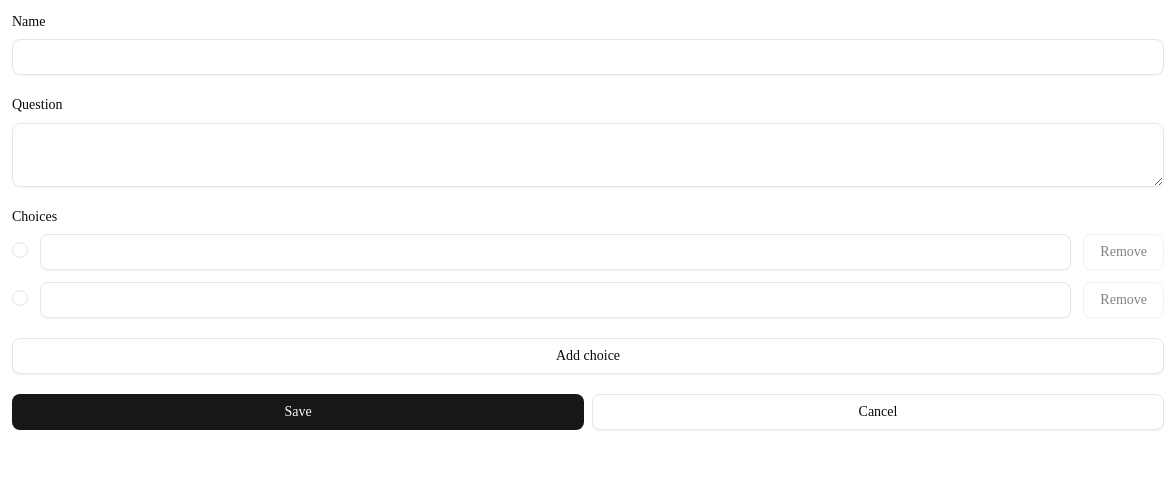
Test: McqForm › save is blocked when the question is blank
Type "Math basics" into the field labelled "Name" at (588, 57), box x1=12 y1=39 x2=1164 y2=75
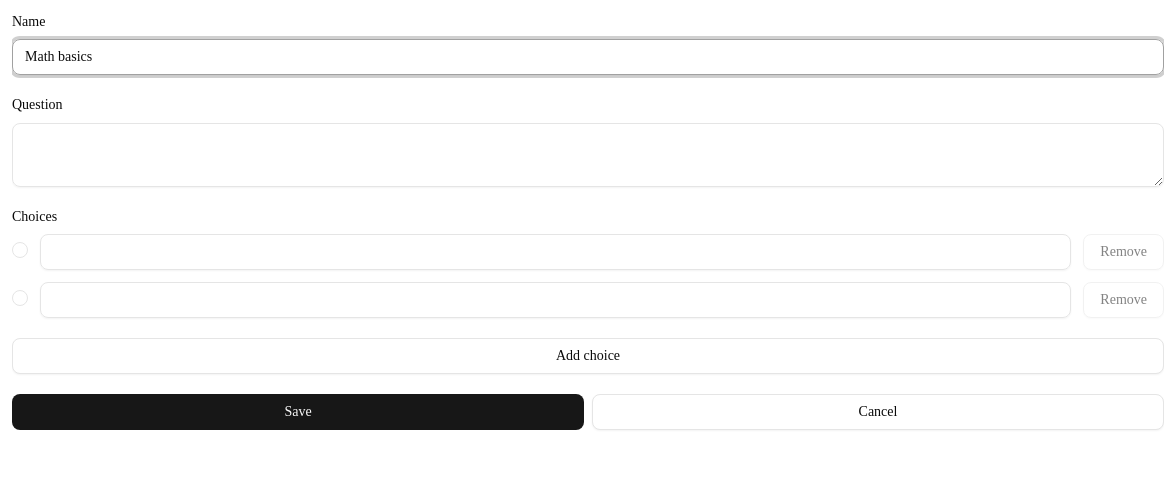
Type "3" into the field named "choice 1" at (556, 252), box x1=40 y1=234 x2=1071 y2=270
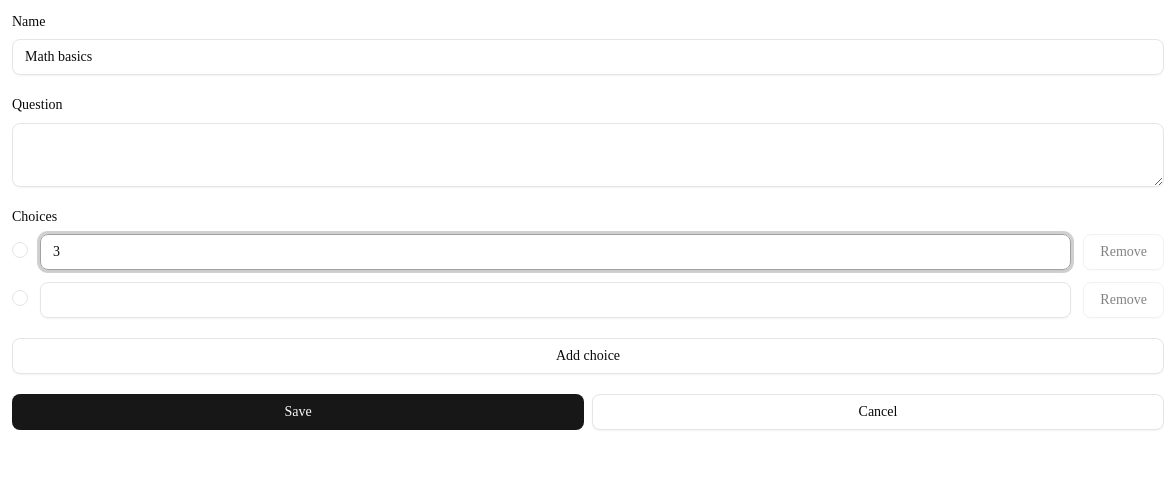
Type "4" into the field named "choice 2" at (556, 300), box x1=40 y1=282 x2=1071 y2=318
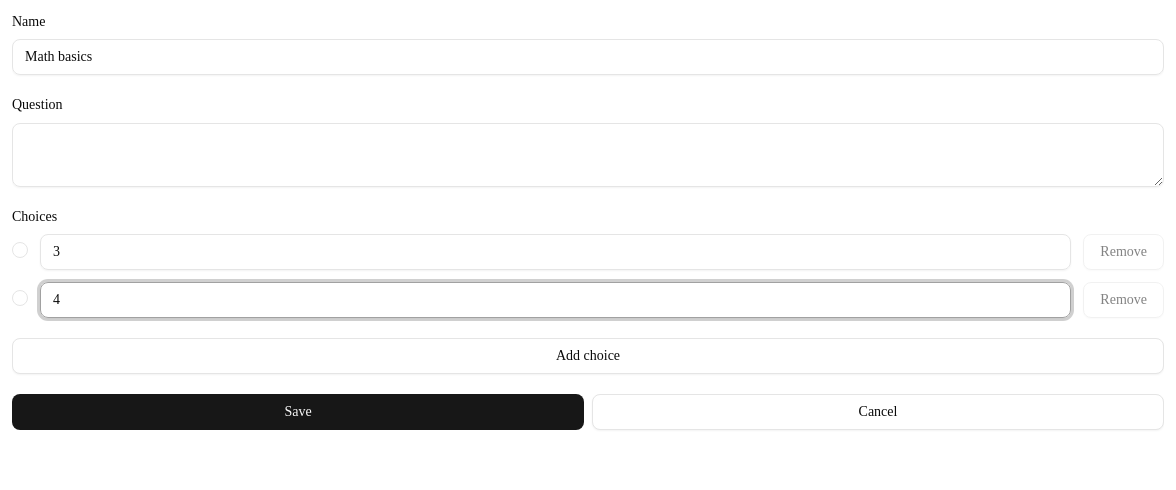
Click the radio button named "mark choice 2 as correct" at (20, 298), box x1=12 y1=290 x2=28 y2=306
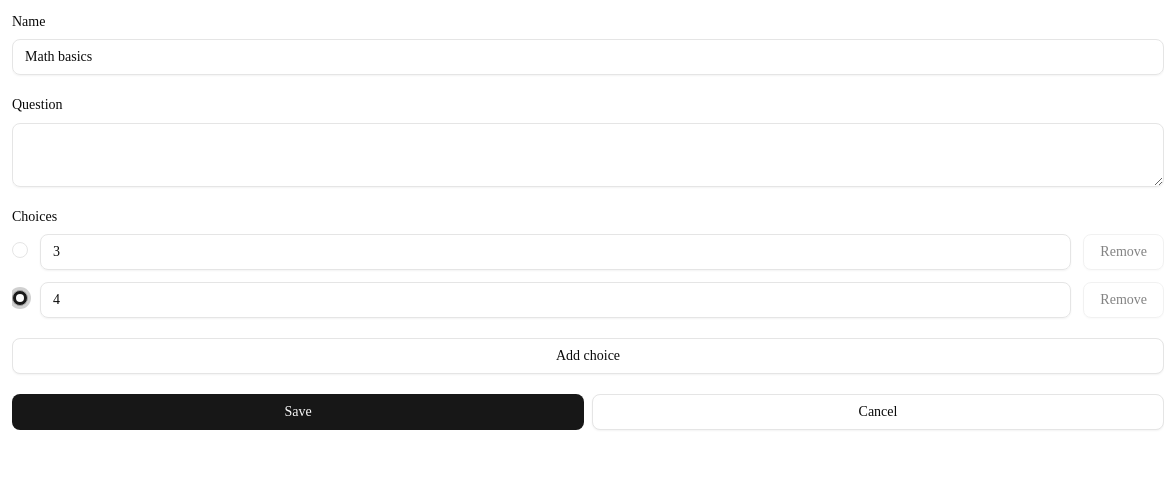
Click the button "Save" at (298, 412), box x1=12 y1=394 x2=584 y2=430
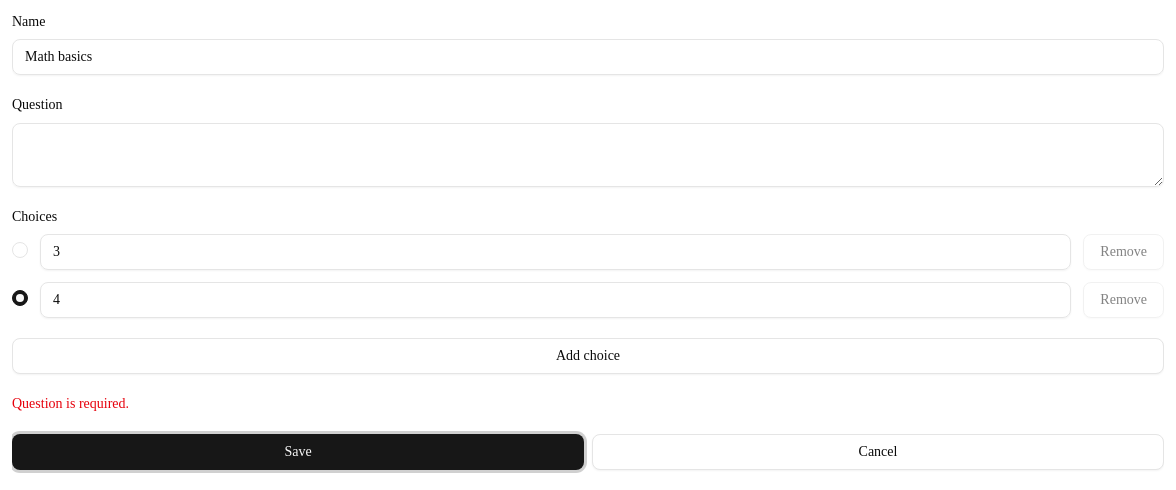
Result: the message shows "Question is required" at x1=12 y1=396 x2=129 y2=411
